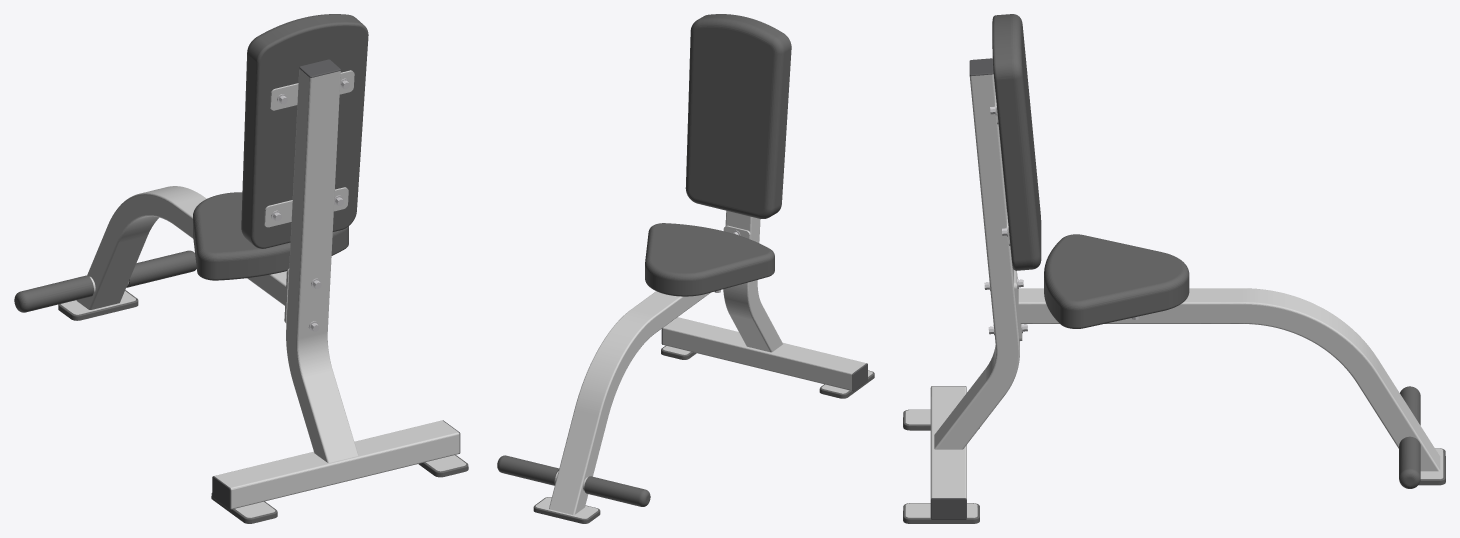
Rendered from bench5.glb.
The picture shows the model from 3 angles, left to right: view 1: azimuth 30°, elevation 25°; view 2: azimuth 150°, elevation 25°; view 3: azimuth 270°, elevation 25°; orthographic projection. The views are drawn at different scales.
Parts seen in each view (by area): view 1: Object001_16.001, Object005_4.001; view 2: Object001_16.001; view 3: Object001_16.001.
Part boxes in pixels (<box>): Object001_16.001: <box>14,14,468,523</box>; Object005_4.001: <box>271,78,349,331</box>; Object001_16.001: <box>497,14,874,523</box>; Object001_16.001: <box>903,14,1445,523</box>.
Bounding box in the file's own units: 0.56 × 1.02 × 1.14.
2 materials, 2 textured.
